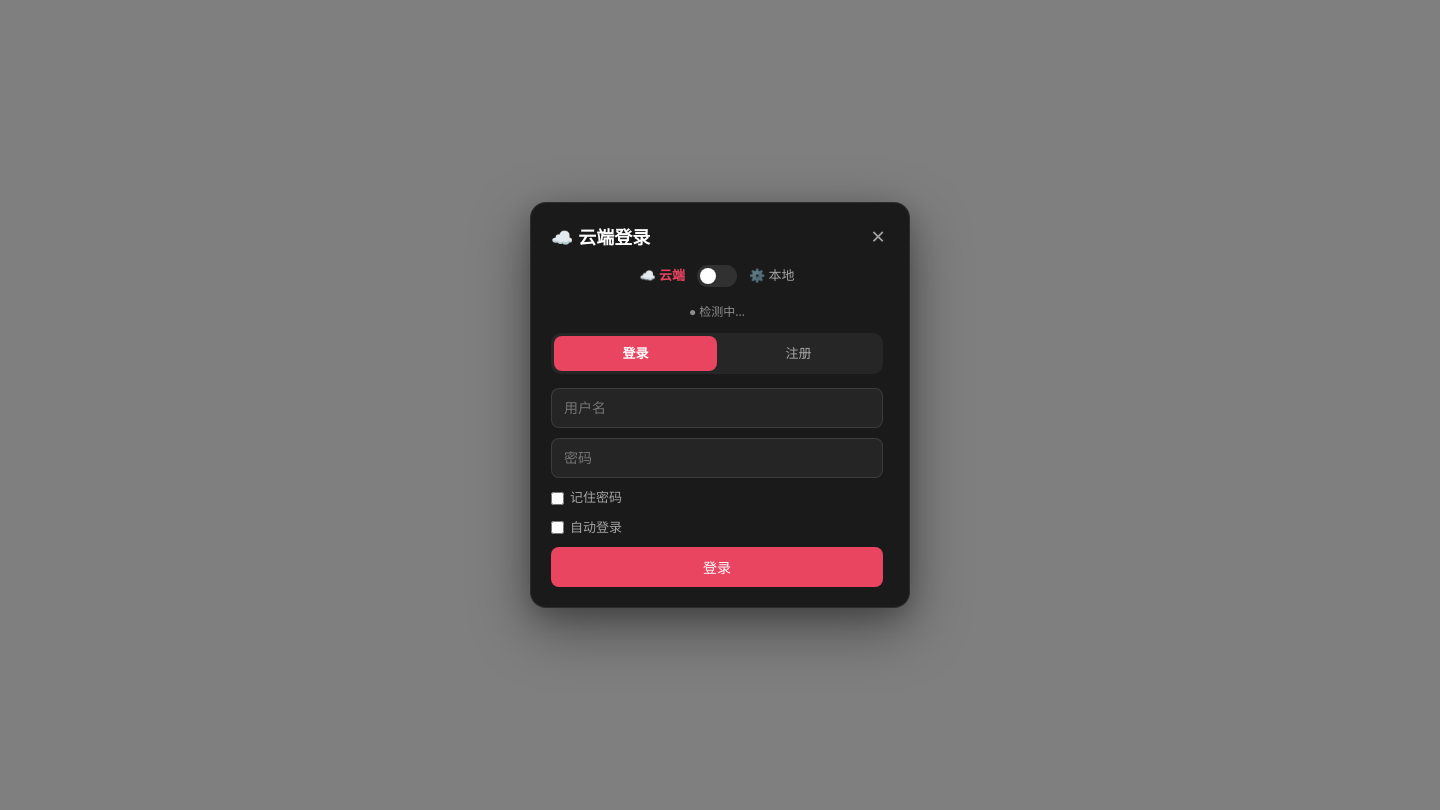
Test case: AuthPanel.vue › 点击注册 Tab 应切换到注册表单
The width and height of the screenshot is (1440, 810).
Click the text with class "login-tab" showing "注册" at (798, 353), box [786,344,812,362]
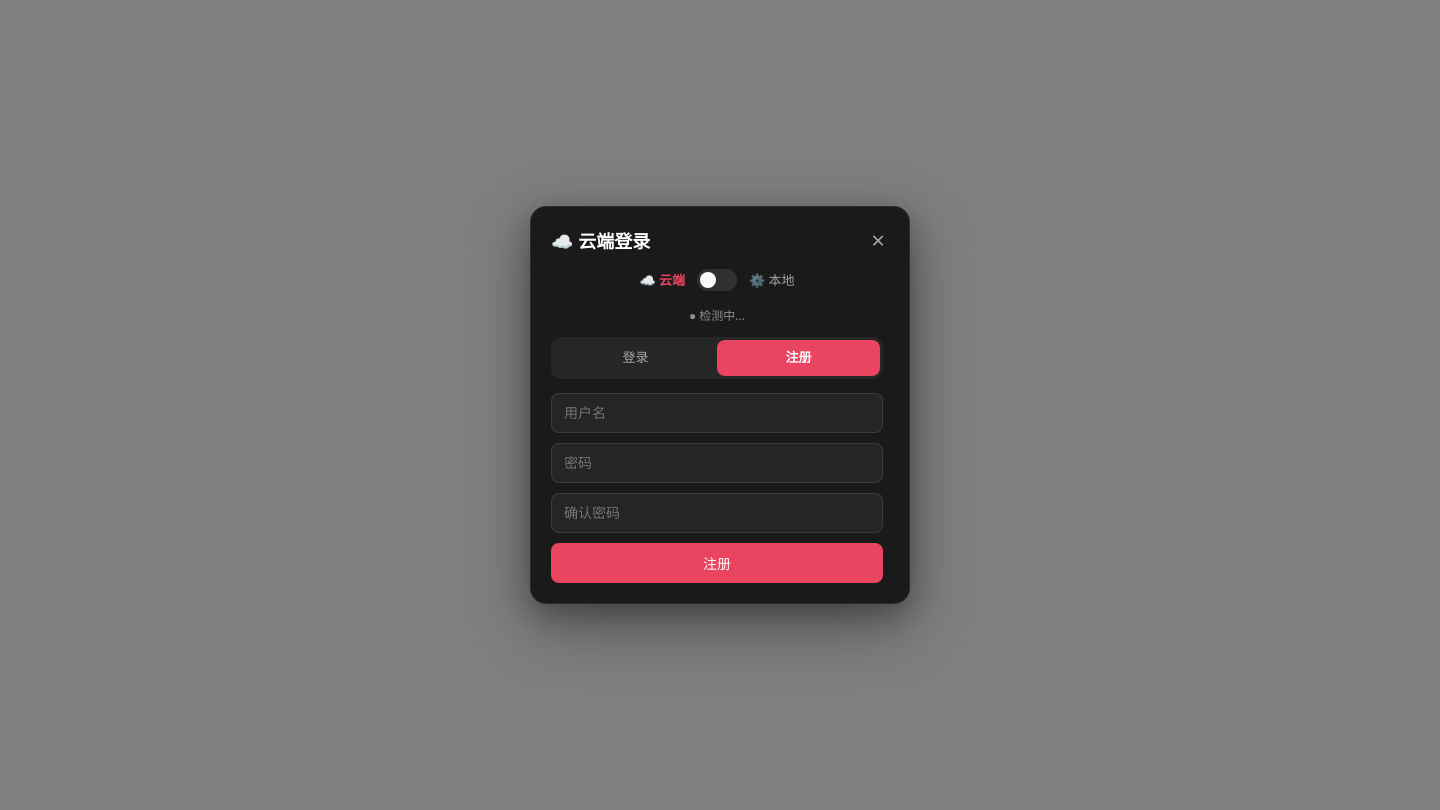
Check: the number of fields with class "form-input" is 3, box [551,393,883,433]; [551,443,883,483]; [551,493,883,533]
